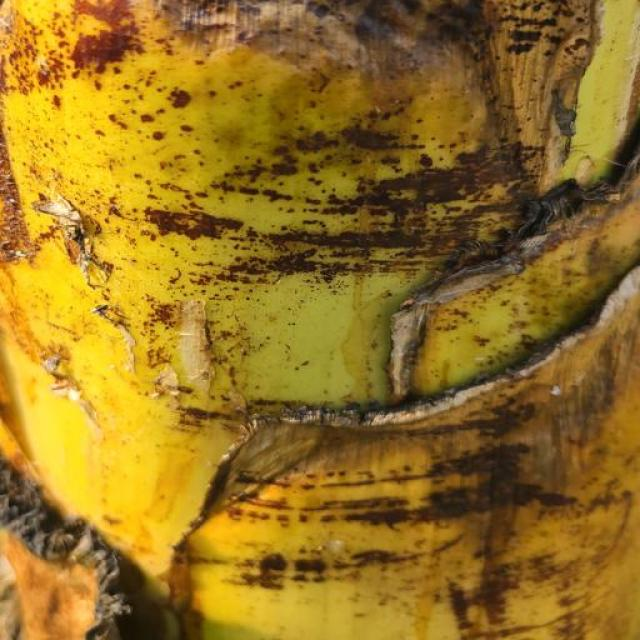Anthracnose: (4, 4, 632, 632)
